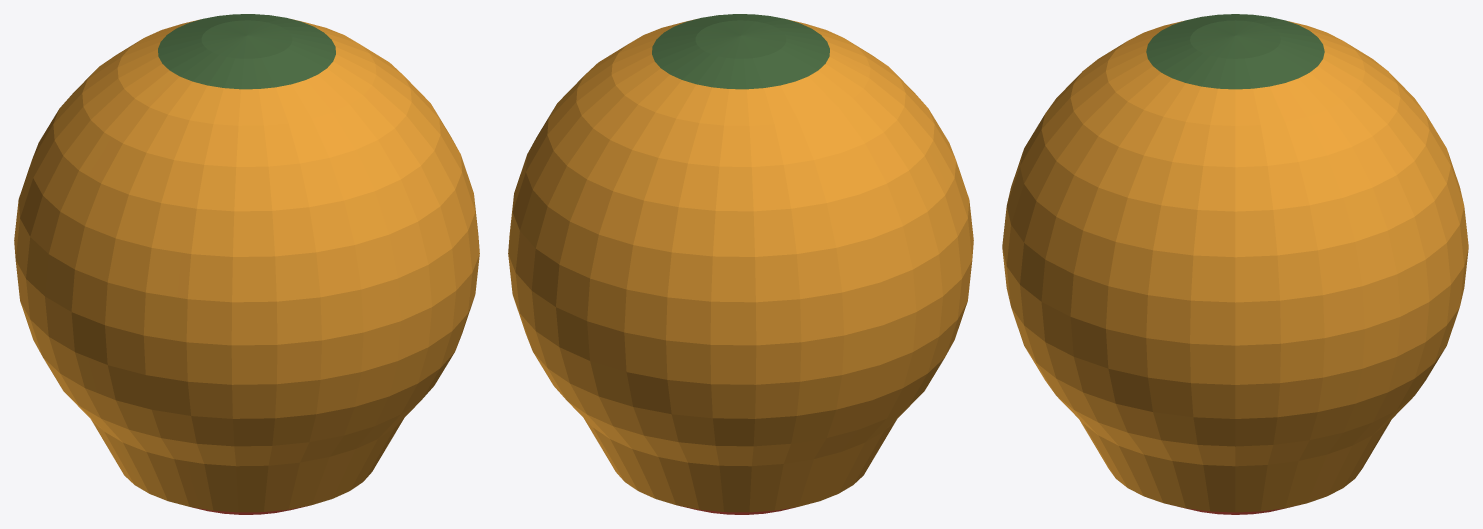
The model's file is Super_ShellS_Ball_10_CLASSIC.fbx.
The picture shows the model from 3 angles, left to right: view 1: azimuth 30°, elevation 25°; view 2: azimuth 150°, elevation 25°; view 3: azimuth 270°, elevation 25°; orthographic projection.
Parts seen in each view (by area): view 1: Sphere; view 2: Sphere; view 3: Sphere.
Boxes of the visible parts, x1=… form: Sphere: x1=14, y1=14, x2=479, y2=514; Sphere: x1=508, y1=14, x2=973, y2=514; Sphere: x1=1002, y1=14, x2=1468, y2=514.
Bounding box in the file's own units: 35 × 37.88 × 35.
Materials: 1 (1 with a texture image).
